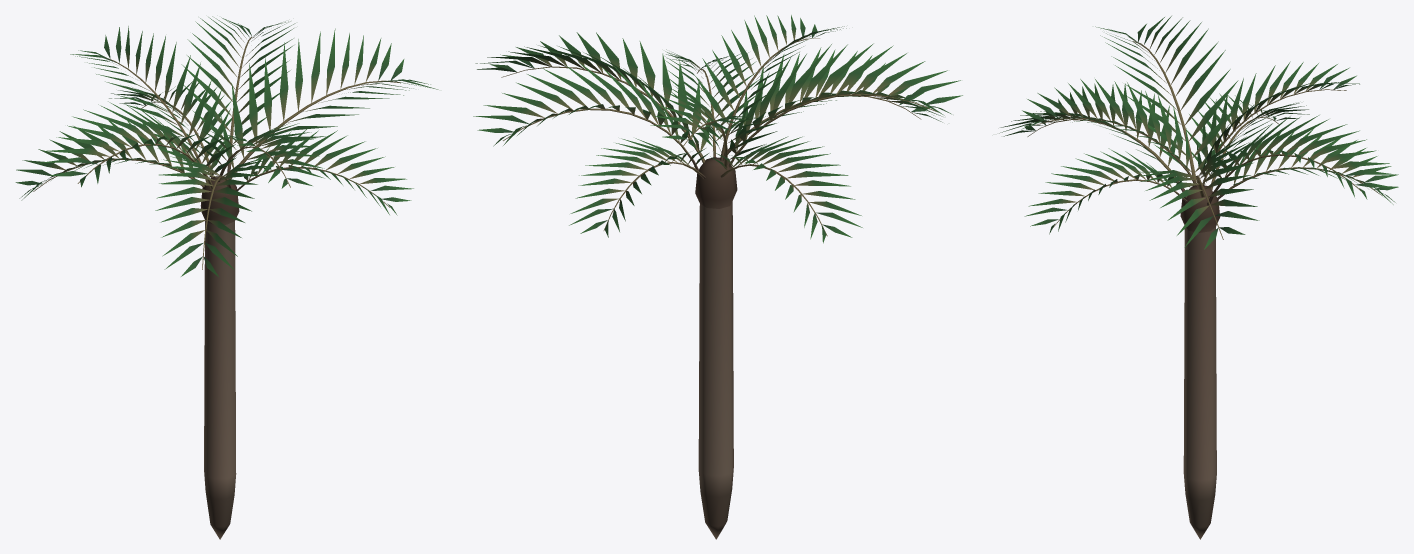
File: trees-palms-ferns-date-palm_v3.fbx
3 views of the same model, side by side, from view 1: azimuth 30°, elevation 25°; view 2: azimuth 150°, elevation 25°; view 3: azimuth 270°, elevation 25° (orthographic). The views are drawn at different scales.
Visible parts, largest first — view 1: Date Palm_v3; view 2: Date Palm_v3; view 3: Date Palm_v3.
Part boxes in pixels (<box>): Date Palm_v3: <box>15,16,438,539</box>; Date Palm_v3: <box>473,15,962,539</box>; Date Palm_v3: <box>999,16,1398,539</box>.
Size of the model in its own units: 7.44 by 8 by 6.49.
